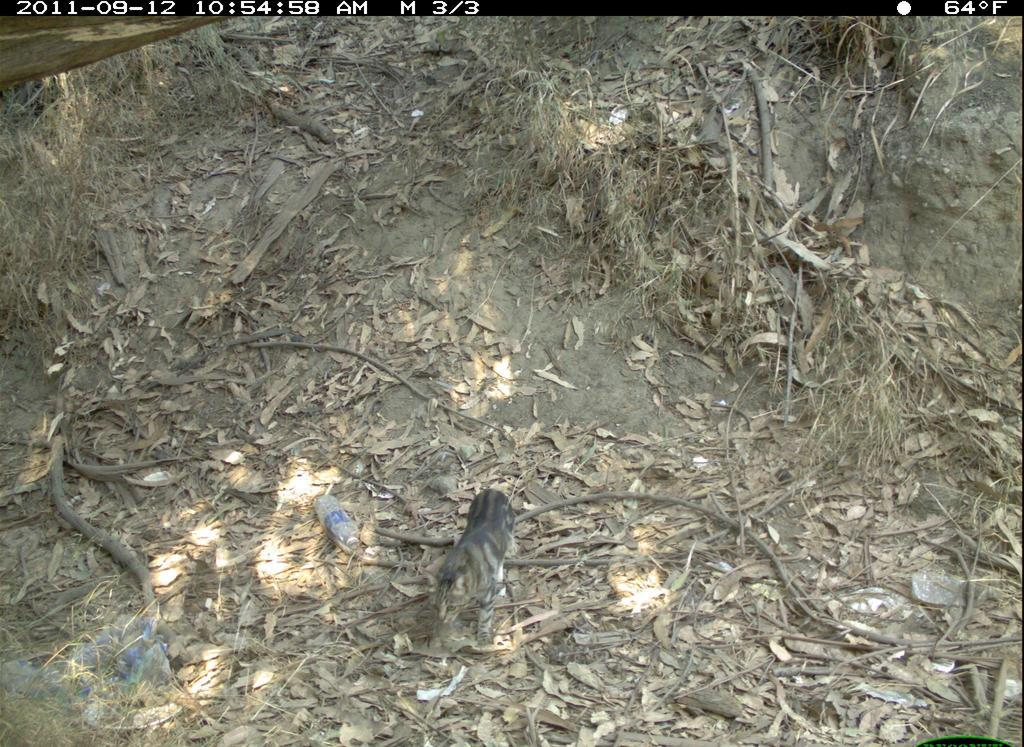cat: (421, 493, 522, 657)
